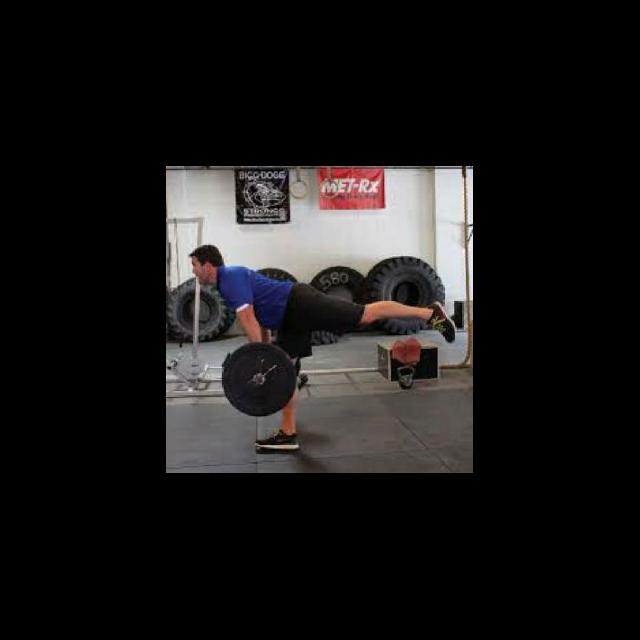barbell: (221, 340, 298, 420)
